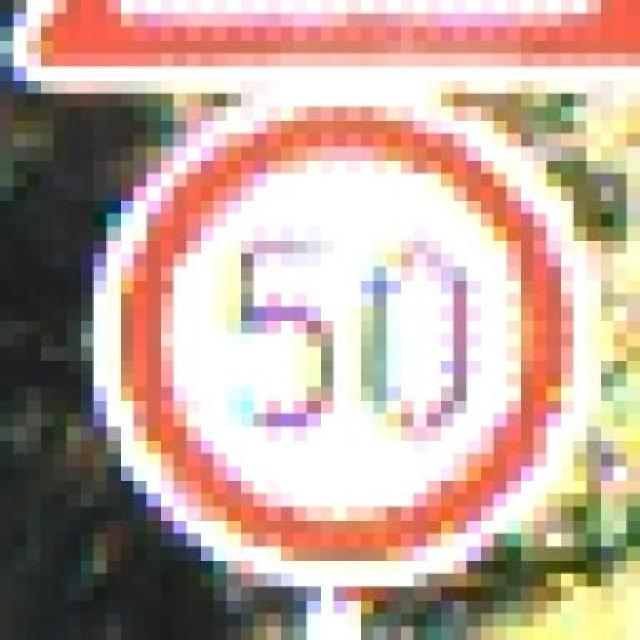forb_speed_over_50: (120, 99, 575, 562)
